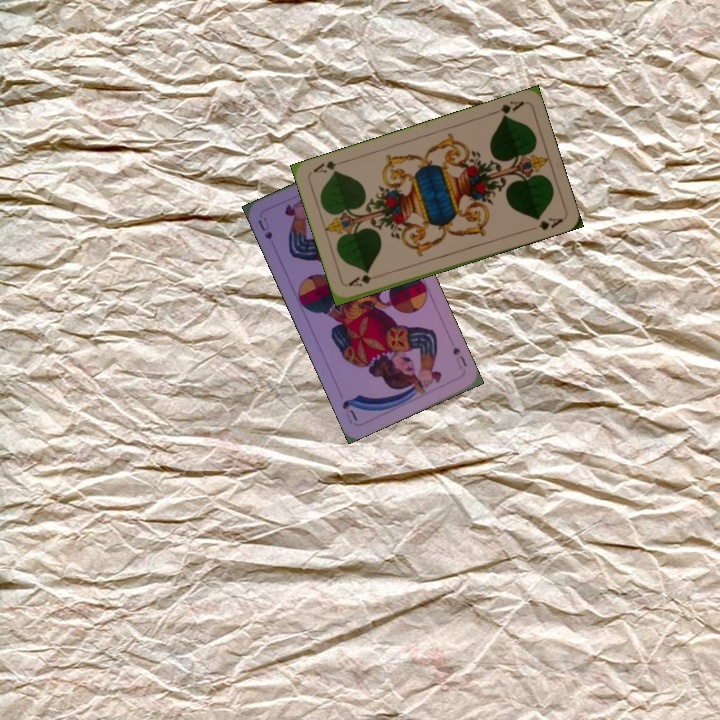GA: (487, 97, 527, 121), (344, 271, 384, 289)
SU: (254, 213, 275, 242), (449, 343, 469, 372)
